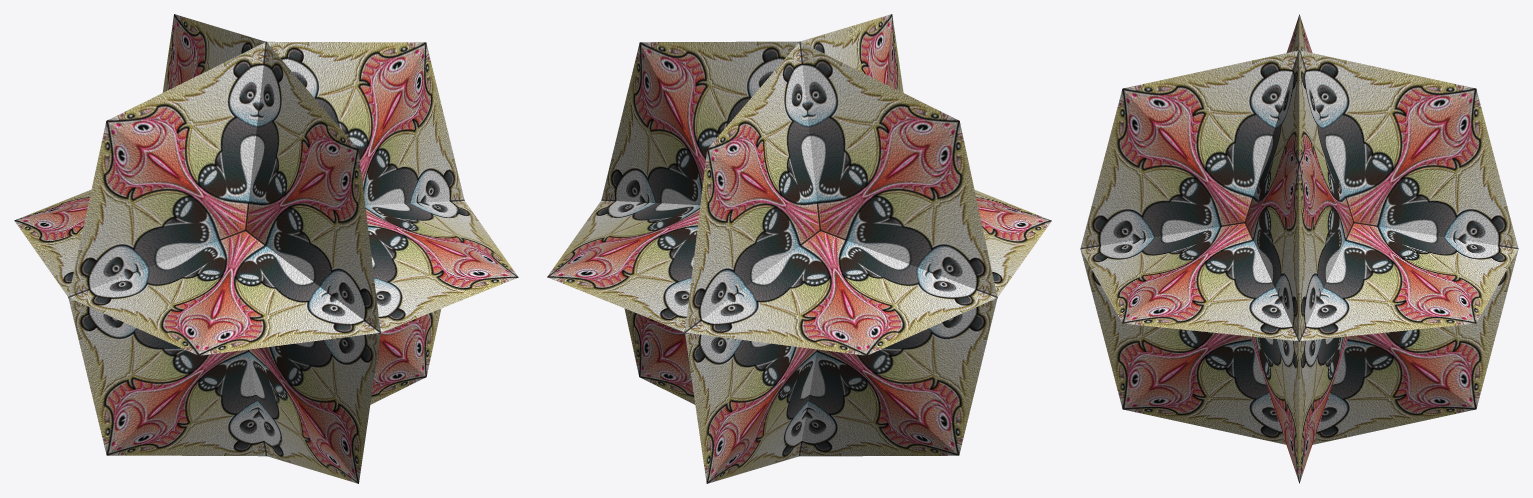
Rendered from Mobius48a_18.obj.
3 views of the same model, side by side, from view 1: azimuth 30°, elevation 25°; view 2: azimuth 150°, elevation 25°; view 3: azimuth 270°, elevation 25° (orthographic). The views are drawn at different scales.
Bounding box in the file's own units: 2.41 × 2.41 × 2.41.
Materials: 1 (1 with a texture image).
